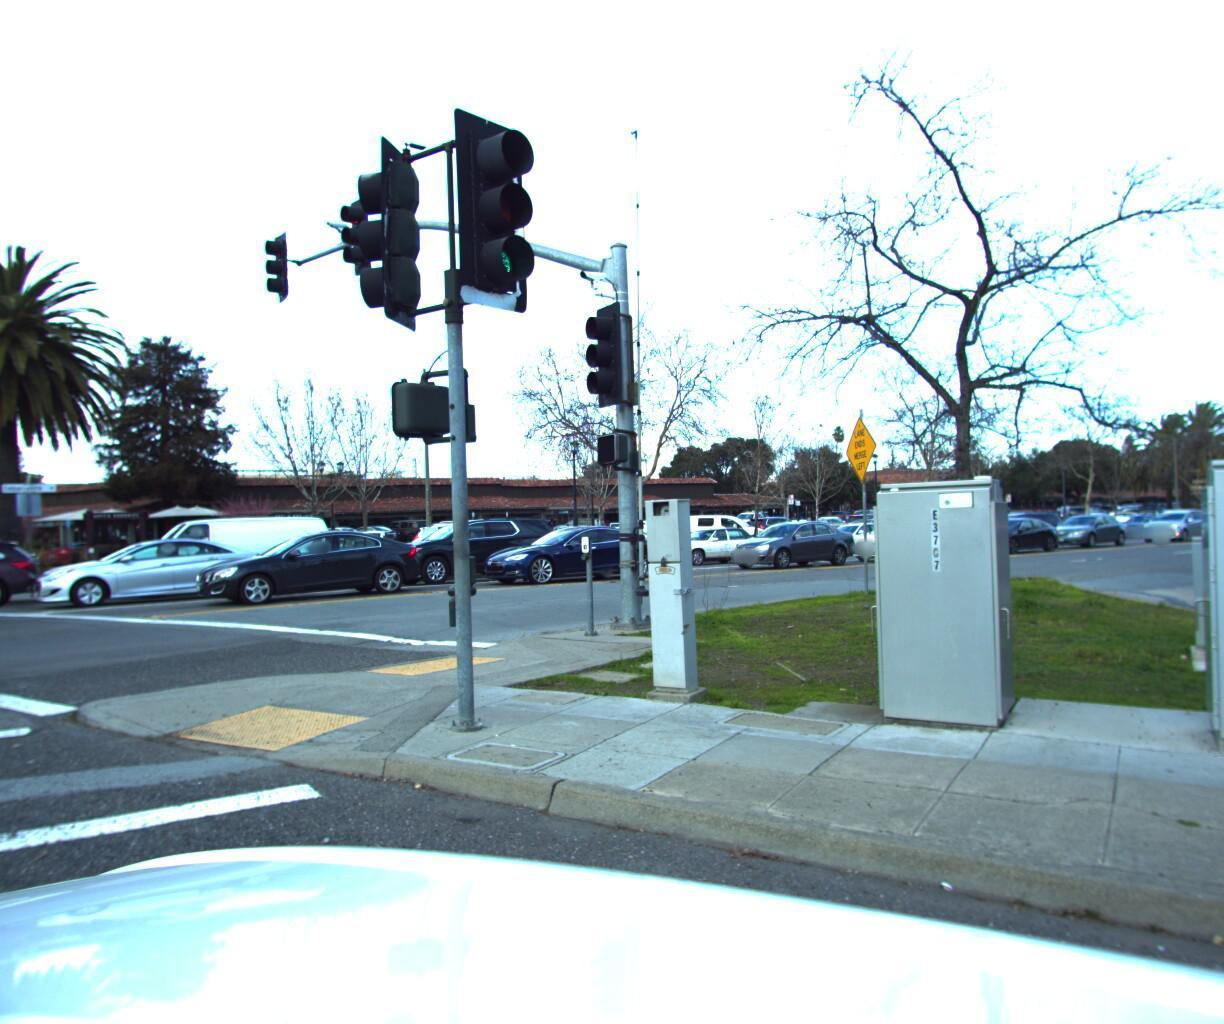car: (108, 507, 347, 602), (185, 521, 433, 606), (26, 529, 273, 609), (367, 509, 563, 587), (465, 516, 669, 585), (712, 510, 864, 567), (834, 508, 968, 559), (636, 519, 776, 565), (954, 507, 1067, 549), (407, 514, 521, 555), (796, 513, 903, 553), (1033, 504, 1134, 544), (1133, 499, 1217, 537), (676, 505, 771, 539), (1004, 495, 1090, 520), (1068, 501, 1133, 523)
